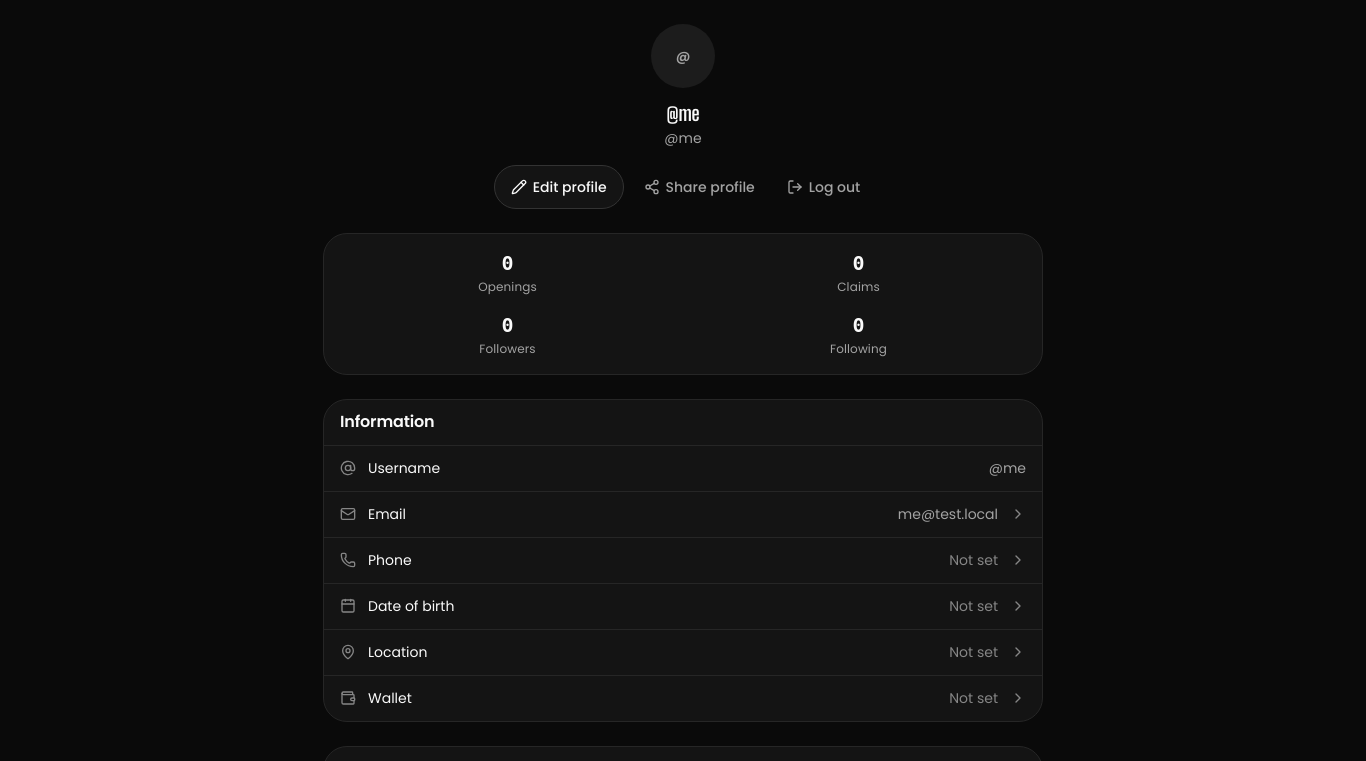
Test: Profile — field-specific edit (Phase 5n-B) › opens a single-field dialog for Email, not the full profile form
This screenshot has width=1366, height=761.
Step 1. Click the button "Email me@test.local" → coordinates (387, 514), box [324, 491, 1042, 537]
(page scrolled)
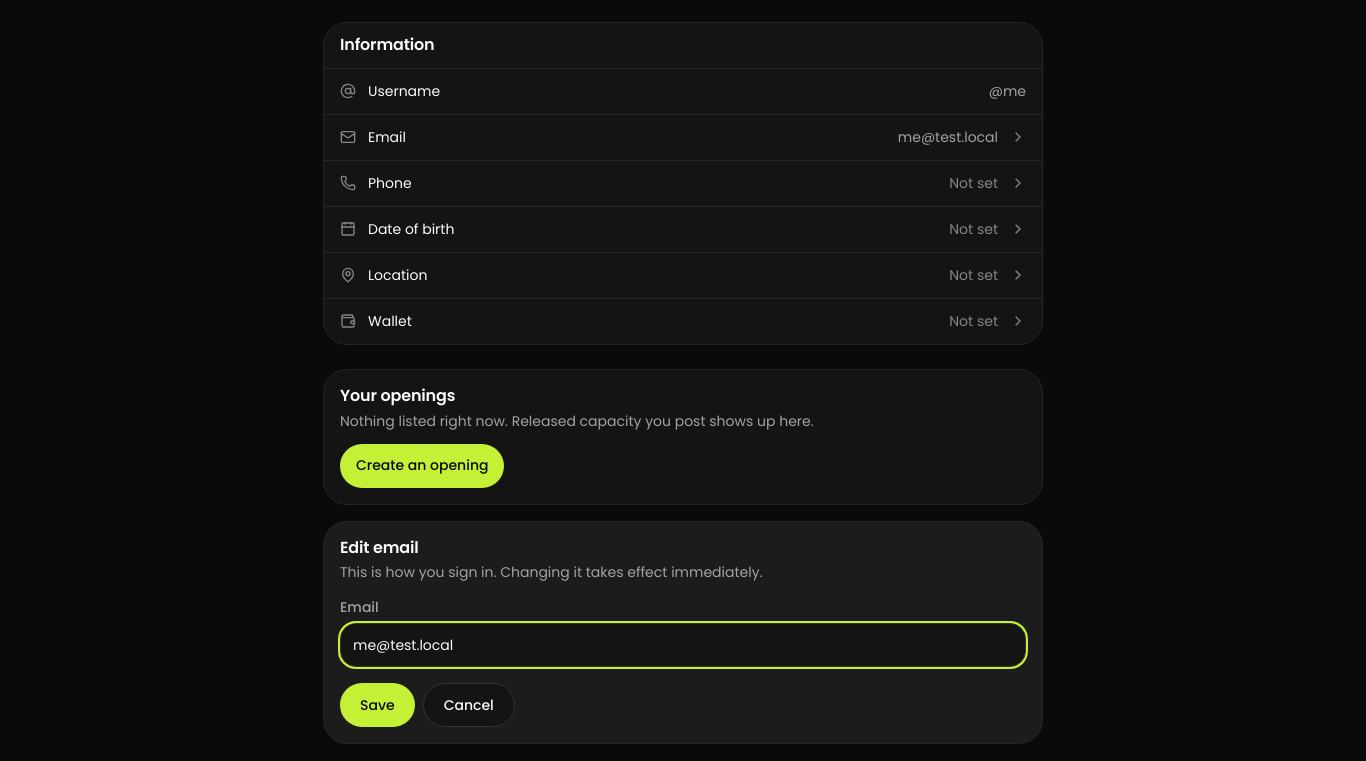
Expected: the dialog does not show "username"
Expected: the number of fields is 1, [340, 623, 1026, 667]
Expected: the field labelled "Email" holds "me@test.local", [340, 623, 1026, 667]
